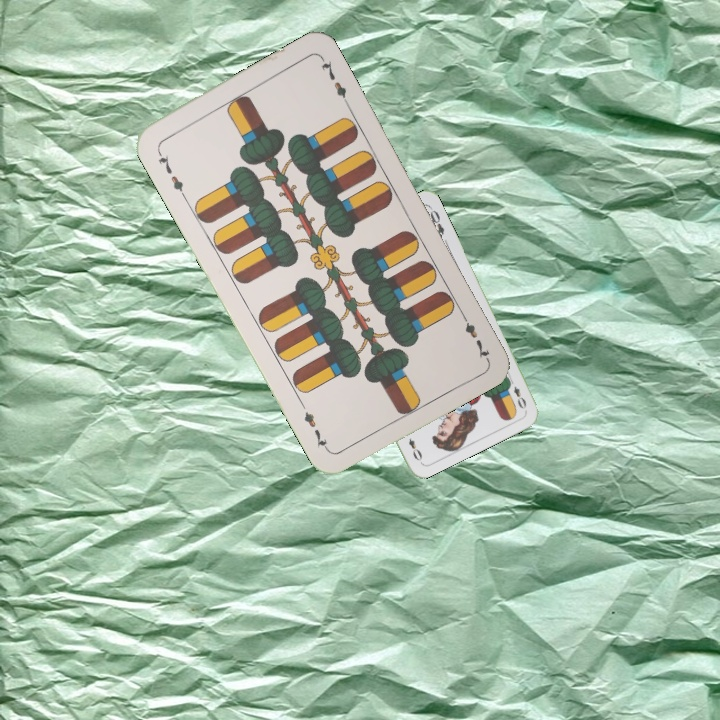E7: (456, 307, 492, 362), (153, 146, 188, 200)
EO: (505, 374, 529, 411)
